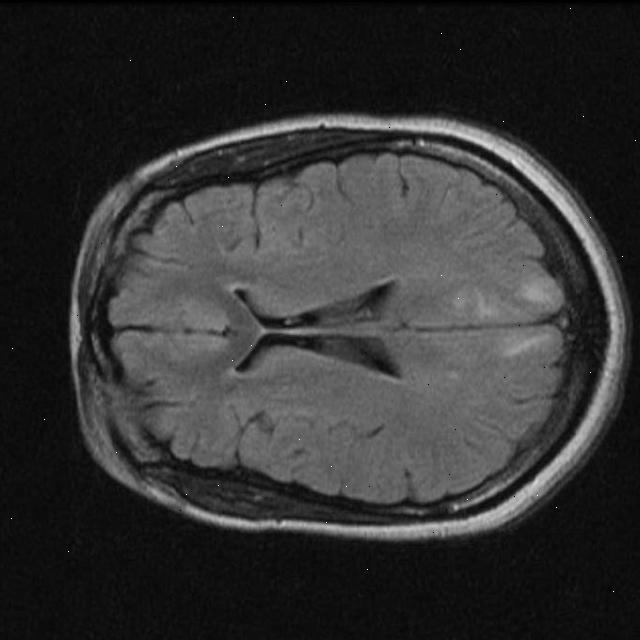No_Tumor: (70, 118, 630, 540)
